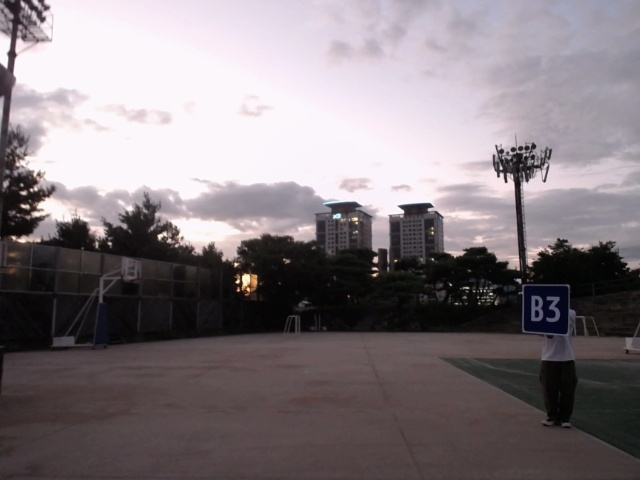delivery_b3: (522, 283, 570, 337)
